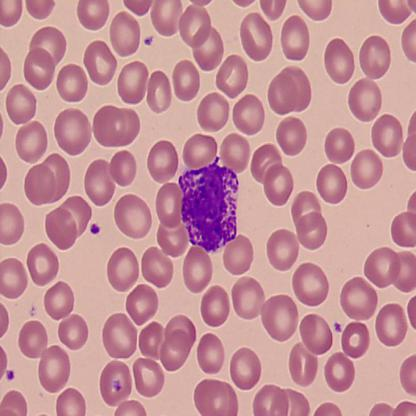Basophil: (176, 155, 242, 256)
